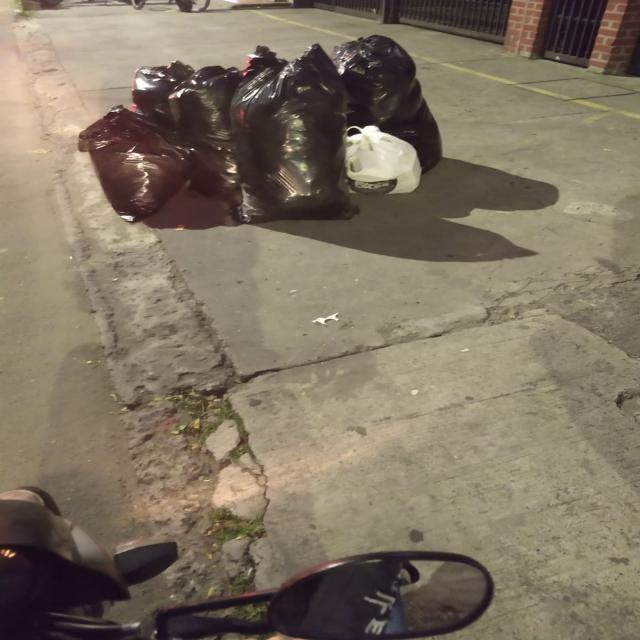high trash: (79, 35, 442, 228)
